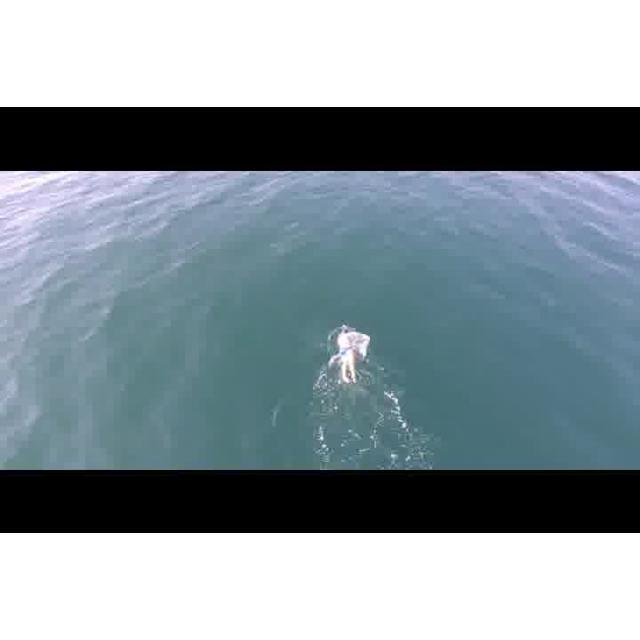human: (322, 318, 376, 388)
